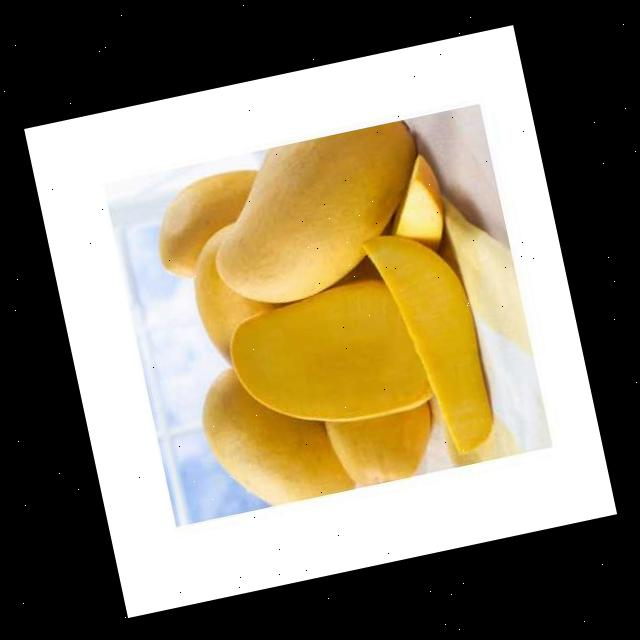Mango: (142, 111, 504, 518), (192, 116, 442, 315), (218, 266, 435, 444), (360, 217, 500, 463), (190, 346, 354, 515), (144, 163, 276, 282)
